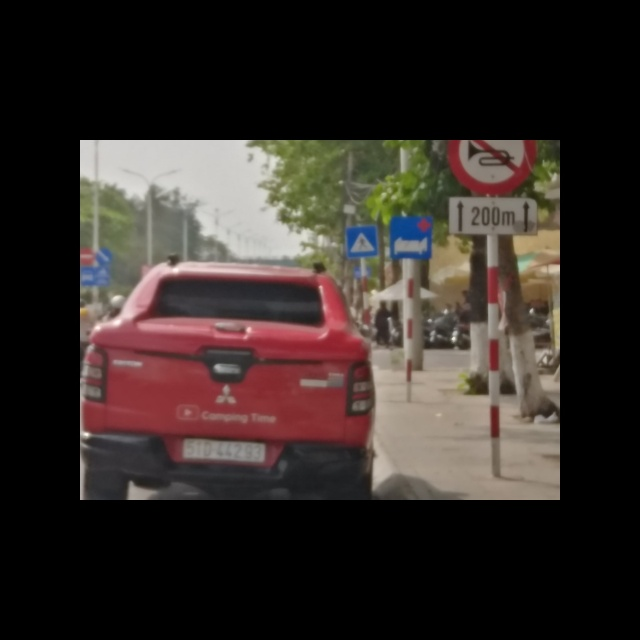Bệnh viện: (387, 216, 432, 261)
Cấm bấm còi: (445, 140, 539, 196)
Đường dành cho người đi bộ: (346, 225, 378, 258)
